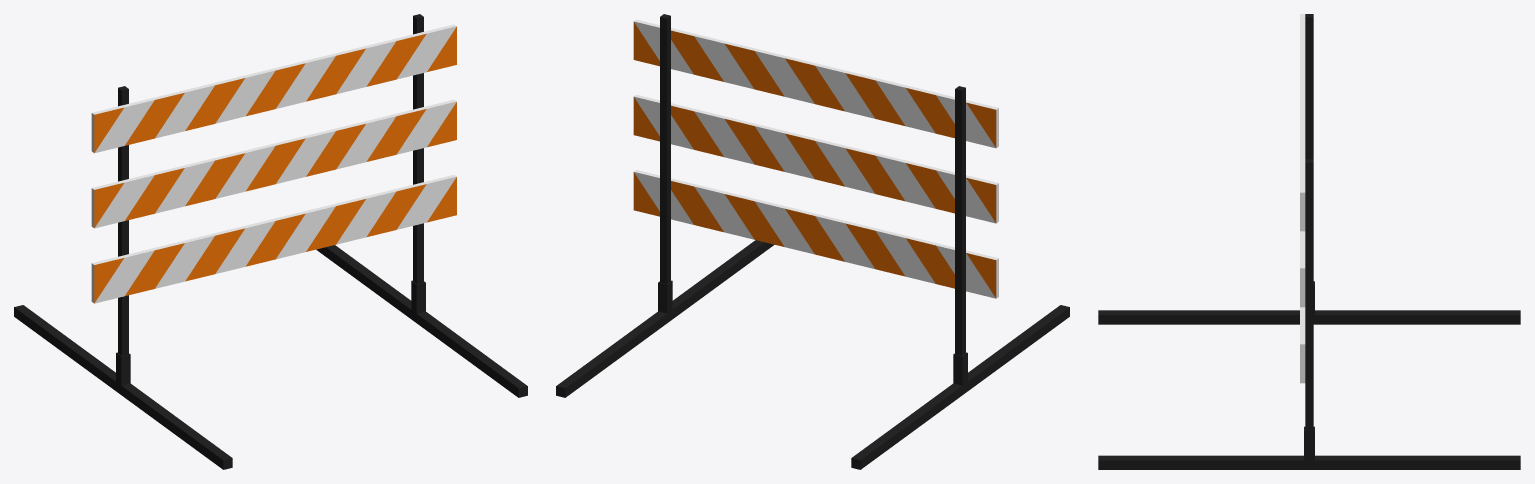
Rendered from Traffic-Barricade-1.fbx.
The picture shows the model from 3 angles, left to right: view 1: azimuth 30°, elevation 25°; view 2: azimuth 150°, elevation 25°; view 3: azimuth 270°, elevation 25°; orthographic projection.
Visible parts, largest first — view 1: TrafficBarricade1RailBottom, TrafficBarricade1RailTop, TrafficBarricade1RailMiddle, TrafficBarricade1LegLeft, TrafficBarricade1LegRight; view 2: TrafficBarricade1RailBottom, TrafficBarricade1RailMiddle, TrafficBarricade1RailTop, TrafficBarricade1LegLeft, TrafficBarricade1LegRight; view 3: TrafficBarricade1LegRight, TrafficBarricade1LegLeft, TrafficBarricade1RailTop, TrafficBarricade1RailMiddle, TrafficBarricade1RailBottom.
Boxes of the visible parts, x1,y1,x2,y2 form: TrafficBarricade1RailBottom: (91,175,456,303); TrafficBarricade1RailTop: (91,24,456,153); TrafficBarricade1RailMiddle: (91,99,456,228); TrafficBarricade1LegLeft: (14,86,232,469); TrafficBarricade1LegRight: (316,14,527,397); TrafficBarricade1RailBottom: (633,170,998,298); TrafficBarricade1RailMiddle: (633,94,998,223); TrafficBarricade1RailTop: (633,19,998,148); TrafficBarricade1LegLeft: (851,86,1069,469); TrafficBarricade1LegRight: (556,14,774,397); TrafficBarricade1LegRight: (1098,159,1520,469); TrafficBarricade1LegLeft: (1098,14,1520,324); TrafficBarricade1RailTop: (1300,14,1305,231); TrafficBarricade1RailMiddle: (1300,231,1305,307); TrafficBarricade1RailBottom: (1300,307,1305,383).
Size of the model in its own units: 2 by 1.6 by 2.
